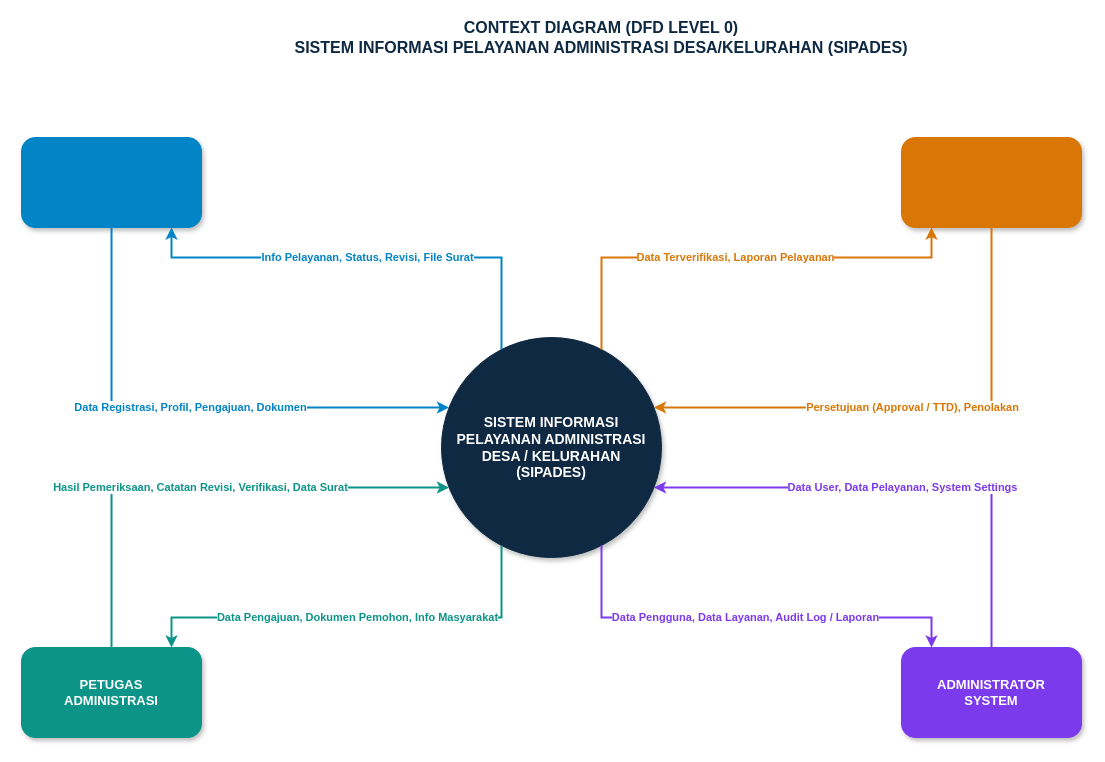
This 1105x762 diagram has some shape labels left out. Here are the shapes that lost their labels. From the top down, the centre of each, then its label:
At point (112, 183): "MASYARAKAT (Pemohon)".
At point (992, 183): "KEPALA DESA / LURAH (Pimpinan)".
